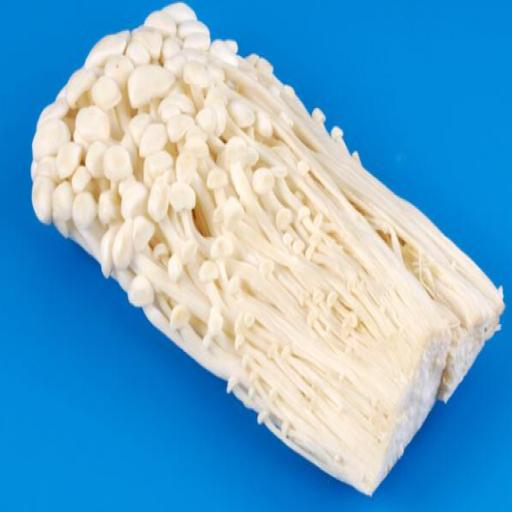Enoki Mushroom: (27, 2, 509, 499)
